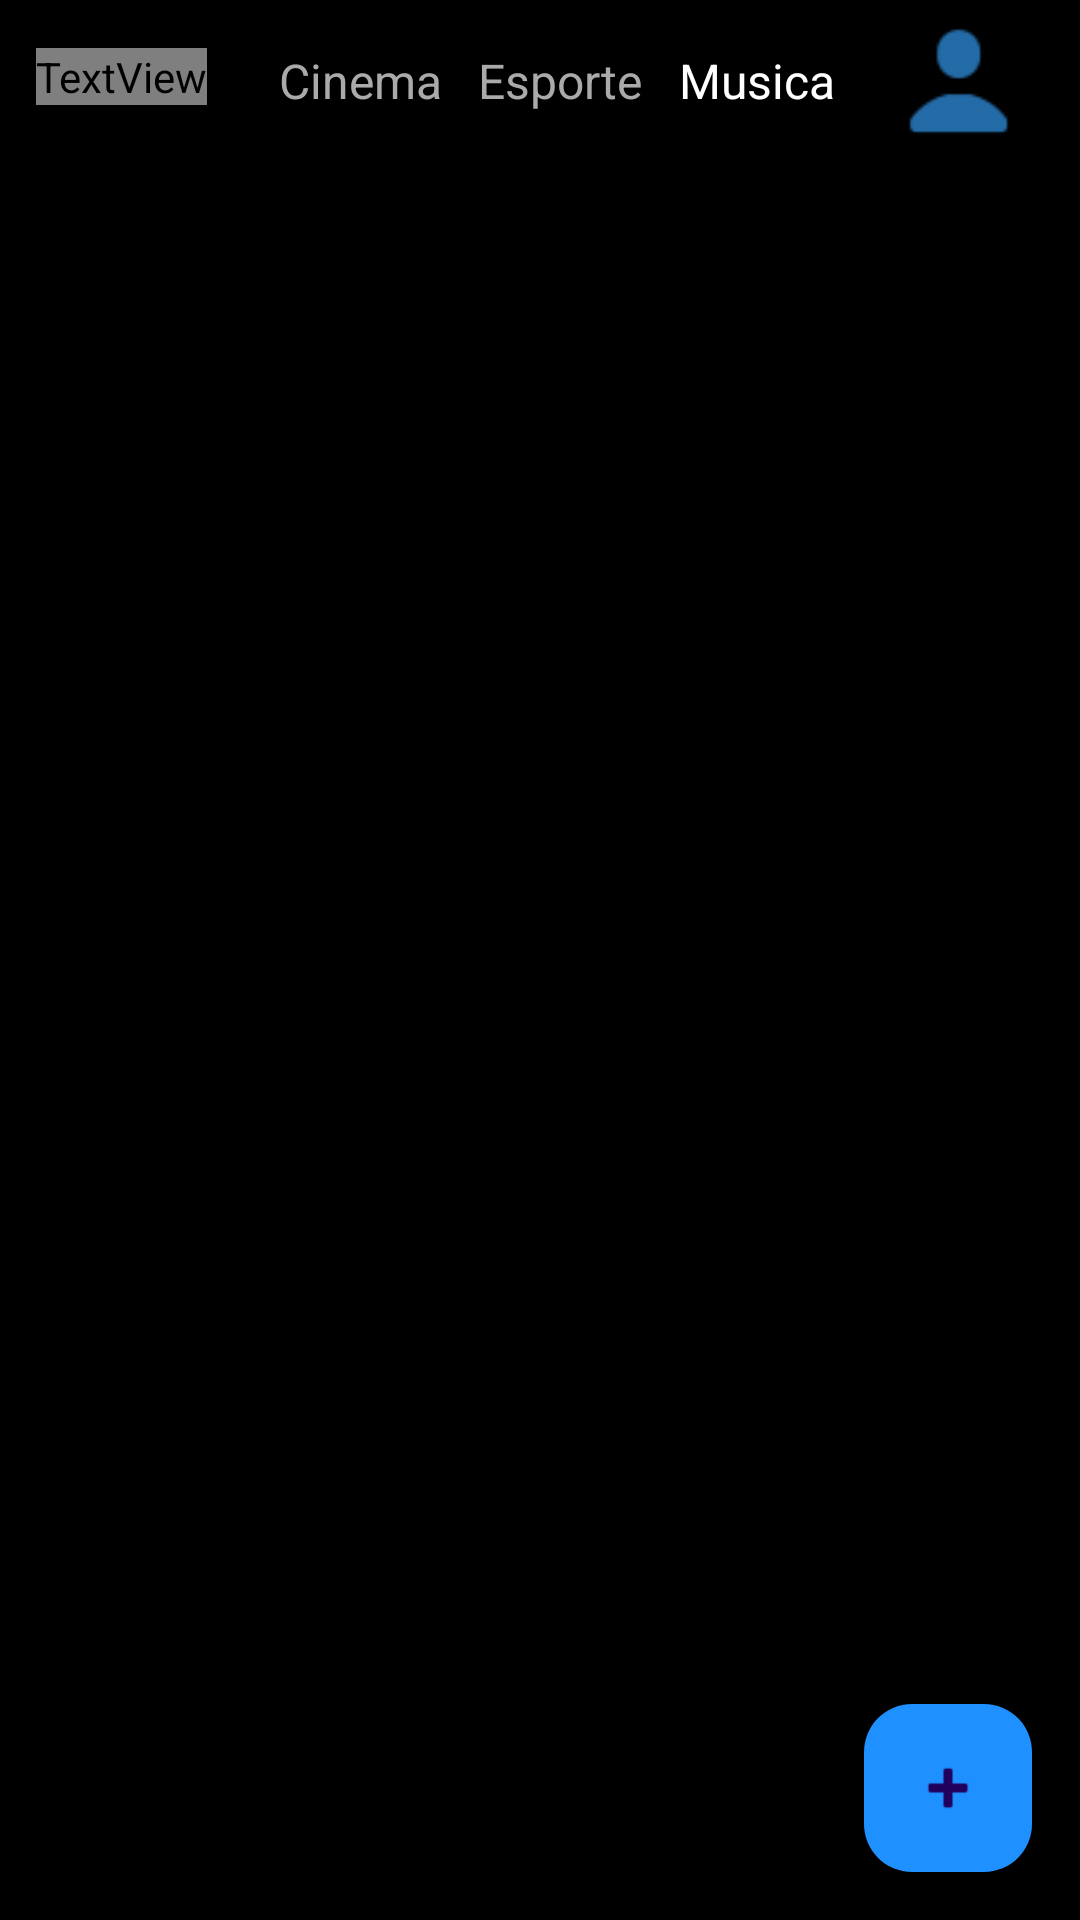

Named icons in this screenshot (1080w x 1920h) and their bounding boxes, [x1, y1, x2, y2]:
add: [864, 1704, 1032, 1872]
Foto do usuário: [909, 29, 1008, 133]
